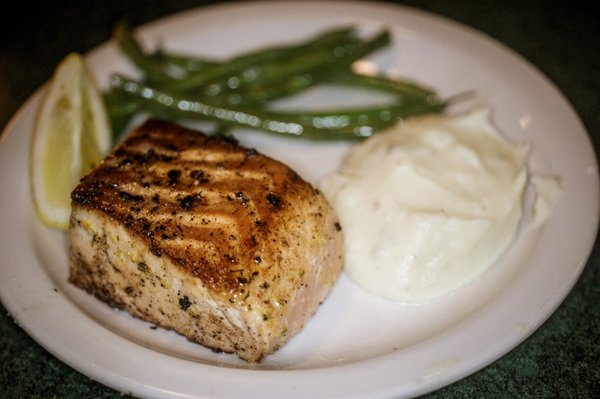soup: (68, 118, 344, 364)
